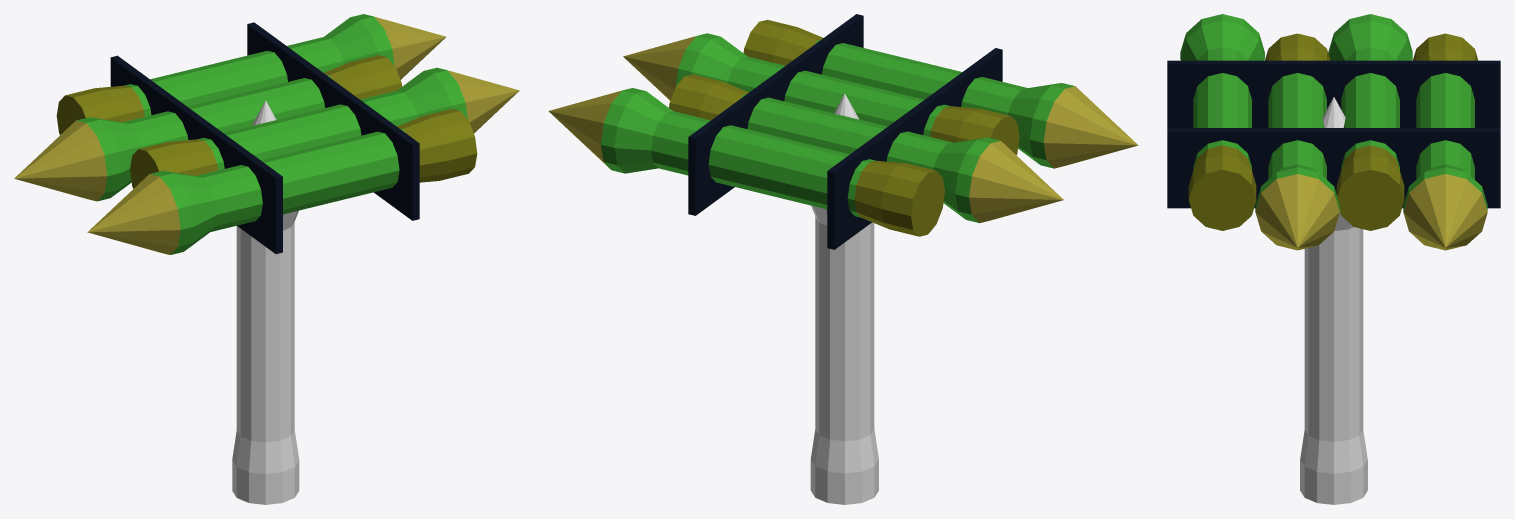
Rendered from missili-4-yellow.glb.
3 renders of one model, left to right at view 1: azimuth 30°, elevation 25°; view 2: azimuth 150°, elevation 25°; view 3: azimuth 270°, elevation 25°, orthographic.
Parts seen in each view (by area): view 1: stilo.004, stilo, stilo.001, stilo.002, stilo.003, Cube, Cube.001, ogiva.003, ogiva.002, Cone.003, Cone.006, Cone.001 (+4 smaller); view 2: stilo.001, stilo, stilo.003, stilo.004, stilo.002, Cube, Cube.001, Cone.004, ogiva.003, ogiva.002, Cone.003, Cone.001 (+4 smaller); view 3: stilo, Cube.001, Cube, stilo.004, stilo.003, stilo.001, stilo.002, ogiva, ogiva.001, Cone.006, Cone.005, Cone.003 (+3 smaller).
Part boxes in pixels (bbox=[...]): stilo.004: bbox=[149, 128, 405, 254]; stilo: bbox=[236, 210, 298, 442]; stilo.001: bbox=[125, 14, 394, 116]; stilo.002: bbox=[198, 67, 467, 170]; stilo.003: bbox=[76, 74, 332, 201]; Cube: bbox=[247, 22, 419, 220]; Cube.001: bbox=[110, 55, 282, 253]; ogiva.003: bbox=[87, 174, 180, 254]; ogiva.002: bbox=[14, 120, 107, 201]; Cone.003: bbox=[232, 430, 299, 504]; Cone.006: bbox=[397, 109, 477, 182]; Cone.001: bbox=[130, 139, 217, 188]; stilo.001: bbox=[600, 88, 875, 217]; stilo: bbox=[811, 205, 874, 441]; stilo.003: bbox=[740, 94, 1000, 222]; stilo.004: bbox=[815, 39, 1074, 168]; stilo.002: bbox=[675, 33, 950, 136]; Cube: bbox=[688, 14, 863, 215]; Cube.001: bbox=[827, 48, 1002, 249]; Cone.004: bbox=[854, 160, 944, 236]; ogiva.003: bbox=[1043, 86, 1138, 168]; ogiva.002: bbox=[969, 141, 1063, 222]; Cone.003: bbox=[810, 429, 878, 504]; Cone.001: bbox=[930, 106, 1019, 154]; stilo: bbox=[1304, 212, 1363, 441]; Cube.001: bbox=[1167, 60, 1500, 127]; Cube: bbox=[1167, 128, 1500, 208]; stilo.004: bbox=[1180, 14, 1264, 169]; stilo.003: bbox=[1328, 14, 1412, 169]; stilo.001: bbox=[1403, 73, 1487, 211]; stilo.002: bbox=[1255, 73, 1339, 211]; ogiva: bbox=[1403, 174, 1487, 250]; ogiva.001: bbox=[1255, 174, 1339, 250]; Cone.006: bbox=[1188, 145, 1256, 230]; Cone.005: bbox=[1336, 145, 1404, 230]; Cone.003: bbox=[1300, 430, 1367, 504].
Bounding box in the file's own units: 12.96 × 10.38 × 7.89.
